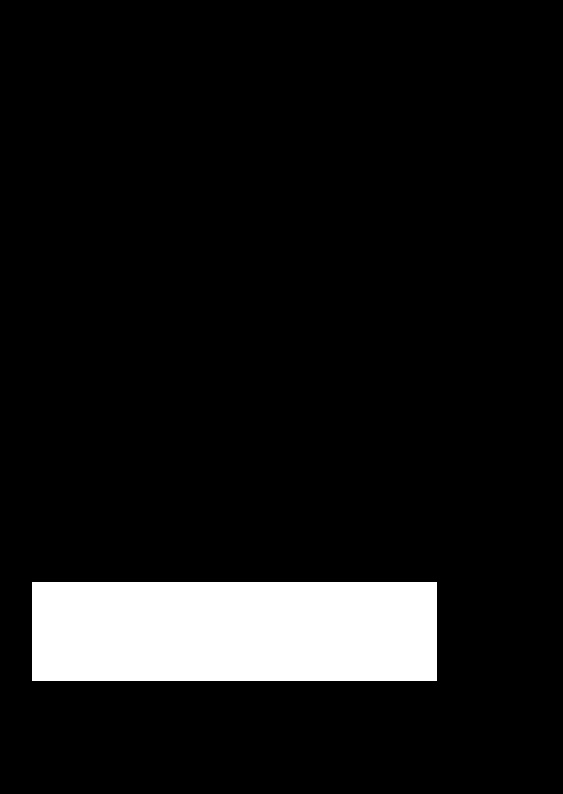table: (32, 582, 436, 680)
